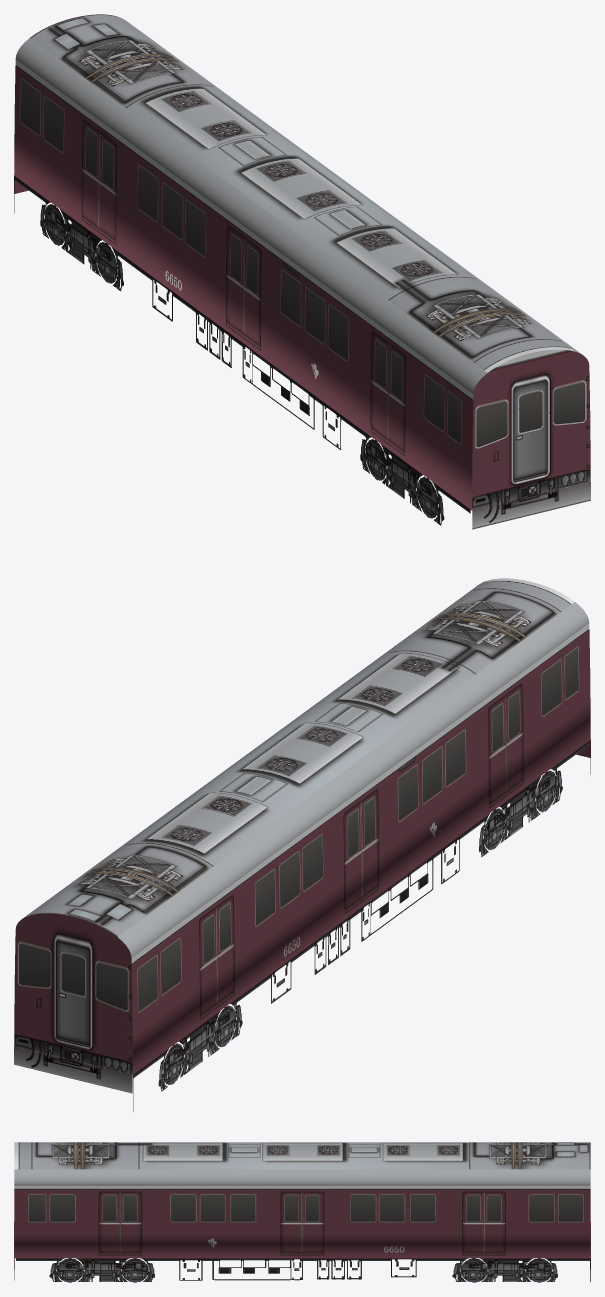
File: car3.glb
3 views of the same model, one above another, from view 1: azimuth 30°, elevation 25°; view 2: azimuth 150°, elevation 25°; view 3: azimuth 270°, elevation 25° (orthographic). The views are drawn at different scales.
Visible parts, largest first — view 1: hankyu6000-car3; view 2: hankyu6000-car3; view 3: hankyu6000-car3.
Boxes of the visible parts, x1=… form: hankyu6000-car3: x1=14, y1=14, x2=590, y2=529; hankyu6000-car3: x1=14, y1=578, x2=590, y2=1111; hankyu6000-car3: x1=14, y1=1142, x2=590, y2=1282.
Bounding box in the file's own units: 2.75 × 4.04 × 18.43.
Materials: 8 (7 with a texture image).
